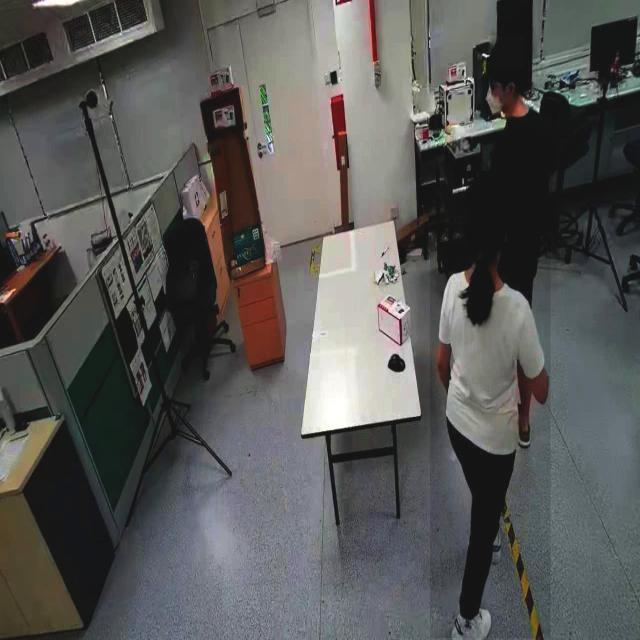face_mask: (482, 67, 507, 120)
head_nohelmet: (466, 171, 508, 209), (488, 36, 524, 70)
person: (430, 224, 550, 639), (469, 79, 557, 292)
